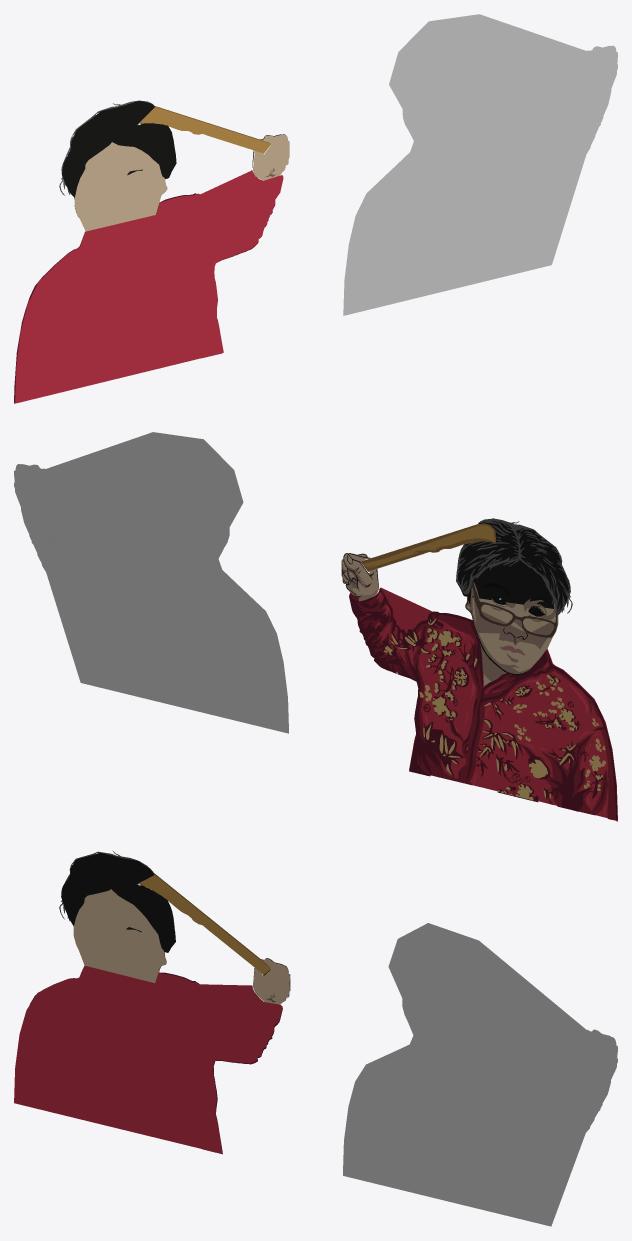
The model's file is asianmom.fbx.
The picture shows the model from 3 angles, top to bottom: view 1: azimuth 30°, elevation 25°; view 2: azimuth 150°, elevation 25°; view 3: azimuth 330°, elevation 25°; orthographic projection.
Visible parts, largest first — view 1: background, 2, 6-skin, 8hair, 19; view 2: background, 2, 4, 3, 8hair, 5 - flowers, 6-skin, 7-shadow, 9whitehair, 19, 20, 15glasses (+1 smaller); view 3: background, 2, 6-skin, 8hair, 19.
Part boxes in pixels (x1=…): background: x1=343, y1=14, x2=617, y2=315; 2: x1=15, y1=170, x2=283, y2=403; 6-skin: x1=74, y1=134, x2=289, y2=231; 8hair: x1=62, y1=100, x2=176, y2=197; 19: x1=138, y1=107, x2=270, y2=153; background: x1=14, y1=432, x2=288, y2=733; 2: x1=350, y1=587, x2=617, y2=820; 4: x1=349, y1=588, x2=617, y2=821; 3: x1=349, y1=588, x2=616, y2=820; 8hair: x1=456, y1=518, x2=570, y2=614; 5 - flowers: x1=383, y1=618, x2=605, y2=800; 6-skin: x1=342, y1=553, x2=558, y2=686; 7-shadow: x1=342, y1=555, x2=555, y2=681; 9whitehair: x1=456, y1=518, x2=572, y2=616; 19: x1=363, y1=525, x2=495, y2=571; 20: x1=360, y1=523, x2=495, y2=571; 15glasses: x1=471, y1=583, x2=557, y2=637; background: x1=343, y1=923, x2=617, y2=1226; 2: x1=14, y1=965, x2=282, y2=1153; 6-skin: x1=73, y1=889, x2=289, y2=1004; 8hair: x1=61, y1=853, x2=175, y2=952; 19: x1=138, y1=875, x2=270, y2=974.
Size of the model in its own units: 982 by 438 by 6.23.
